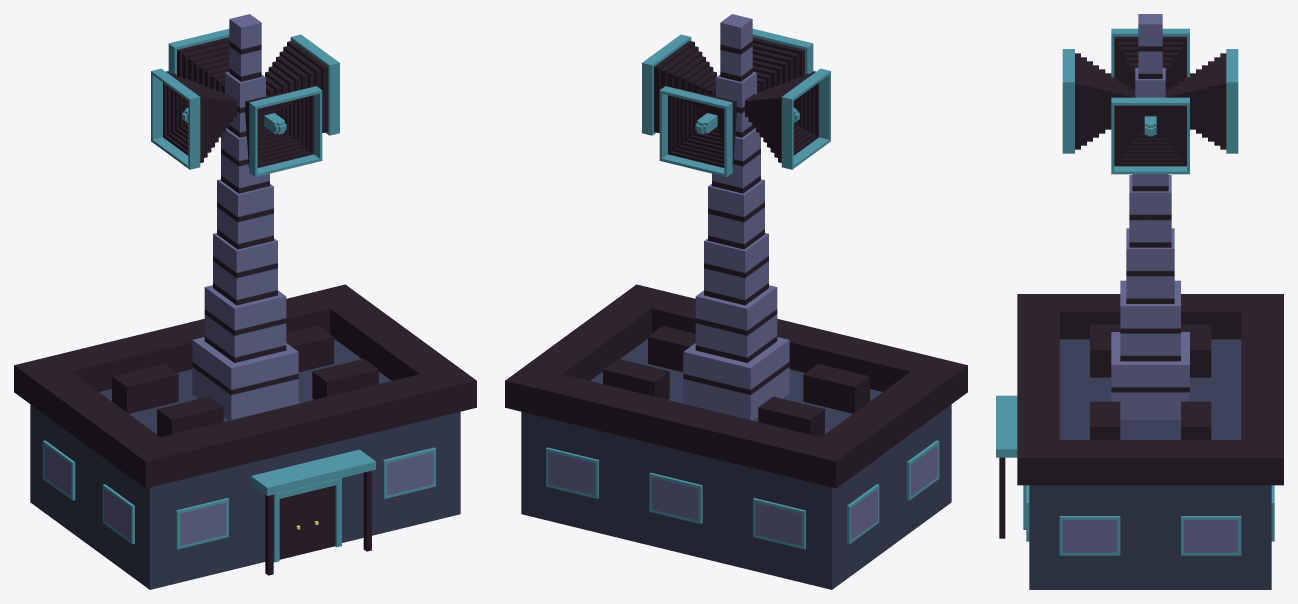
Rendered from SirenBuilding.fbx.
The picture shows the model from 3 angles, left to right: view 1: azimuth 30°, elevation 25°; view 2: azimuth 150°, elevation 25°; view 3: azimuth 270°, elevation 25°; orthographic projection.
Parts seen in each view (by area): view 1: Object; view 2: Object; view 3: Object.
Part boxes in pixels (<box>): Object: <box>14,14,476,589</box>; Object: <box>505,14,967,589</box>; Object: <box>996,14,1283,589</box>.
Bounding box in the file's own units: 128 × 180 × 95.
